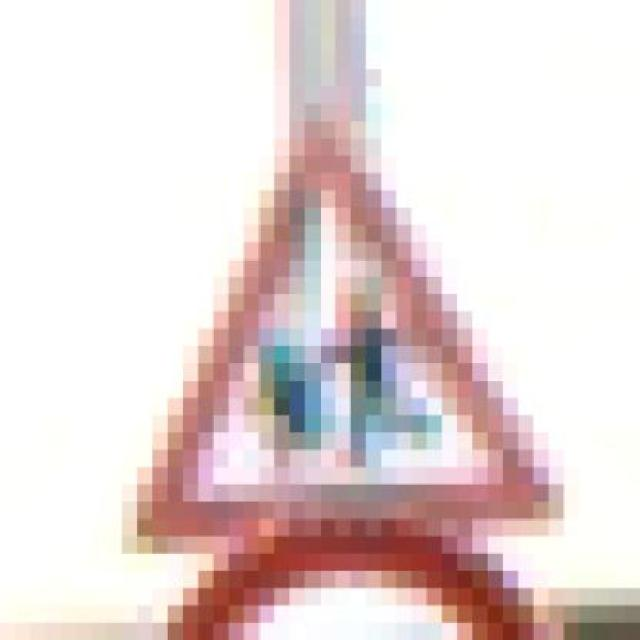Beware of children: (107, 121, 579, 536)
